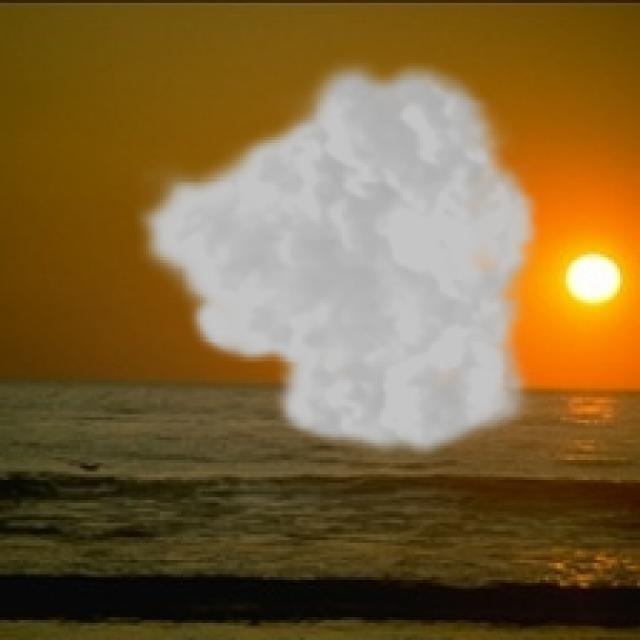smoke: (131, 51, 543, 463)
